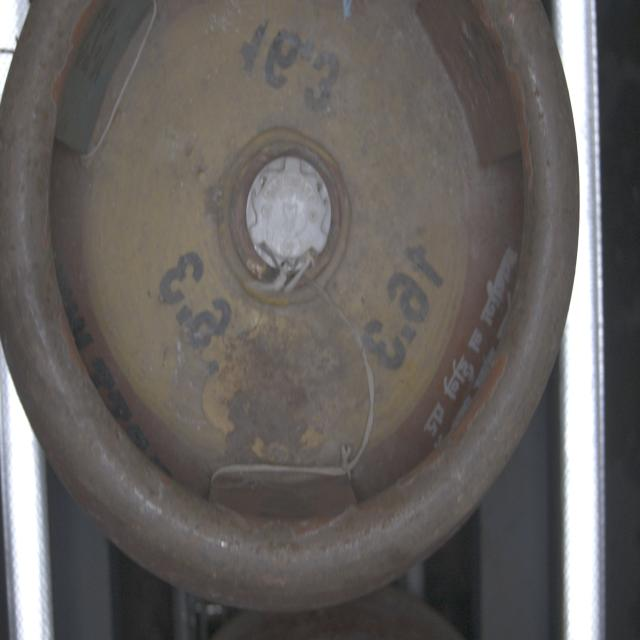Cap: (245, 153, 334, 277)
